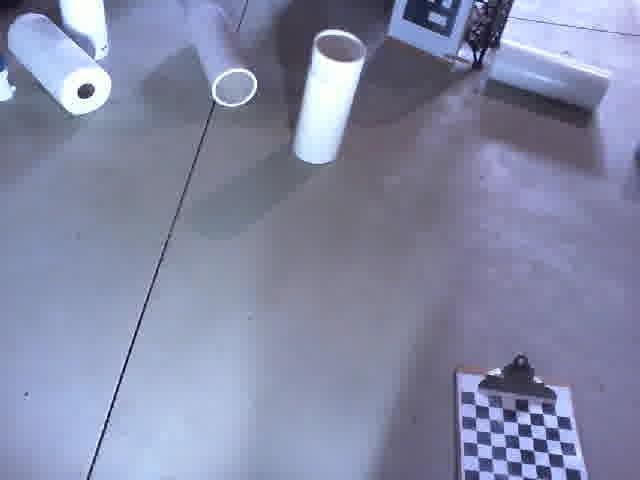coral: (289, 27, 370, 165), (486, 34, 614, 114), (187, 0, 262, 108)
